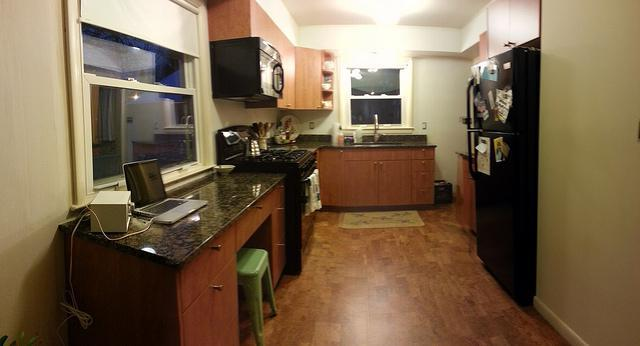tv: (121, 160, 191, 224)
